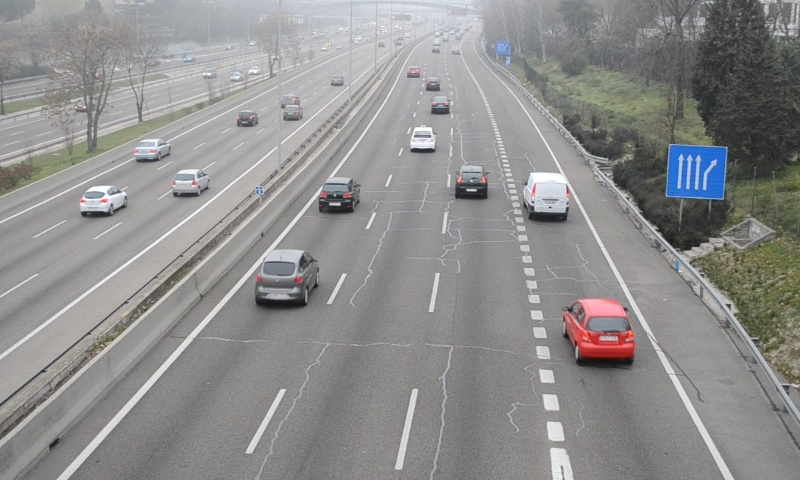car: (565, 299, 636, 359), (256, 249, 316, 305), (317, 178, 359, 213), (456, 164, 488, 197), (410, 126, 435, 151), (431, 95, 450, 114)
van: (526, 172, 570, 219)
